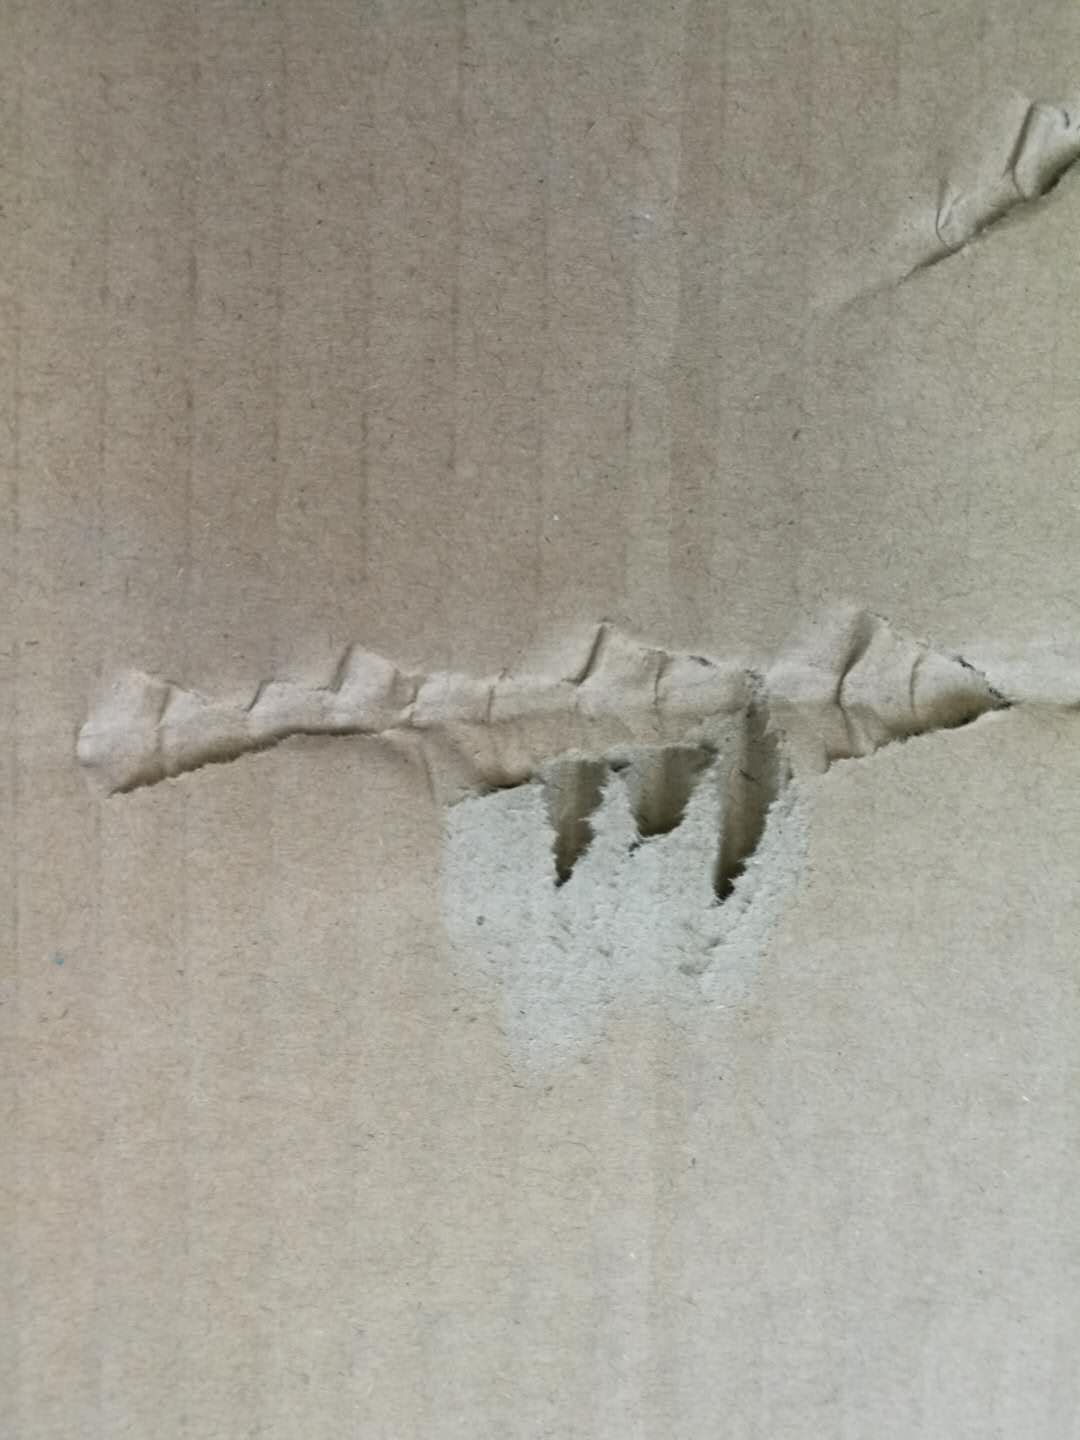defect: (35, 568, 1080, 1104), (777, 56, 1080, 341)
